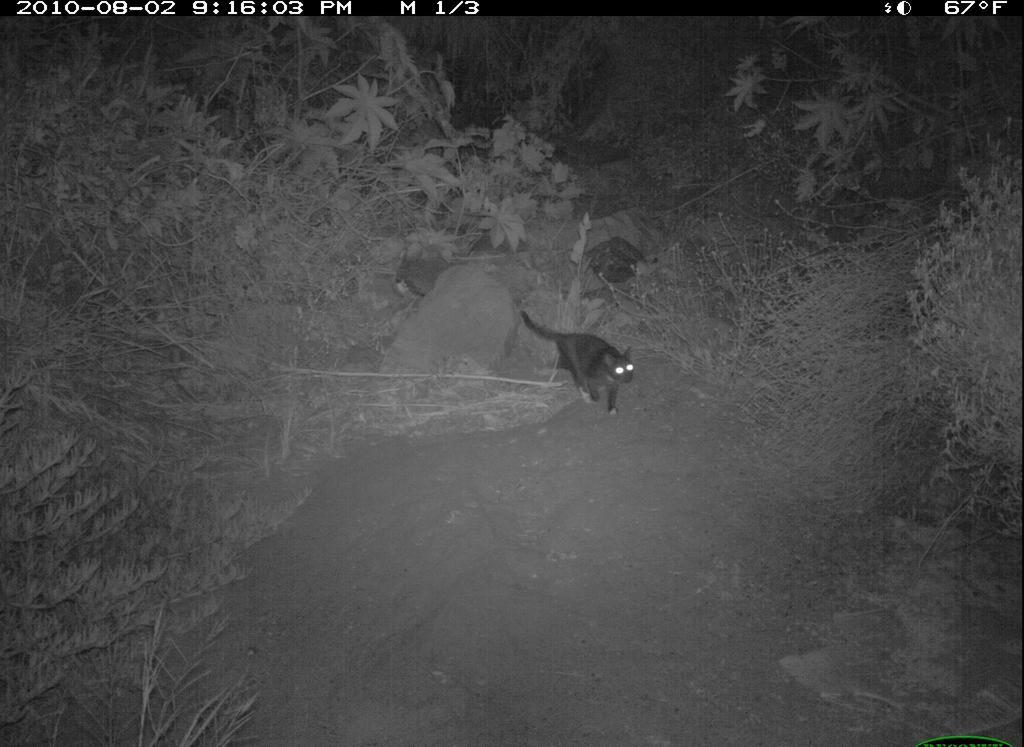cat: (505, 305, 658, 428)
